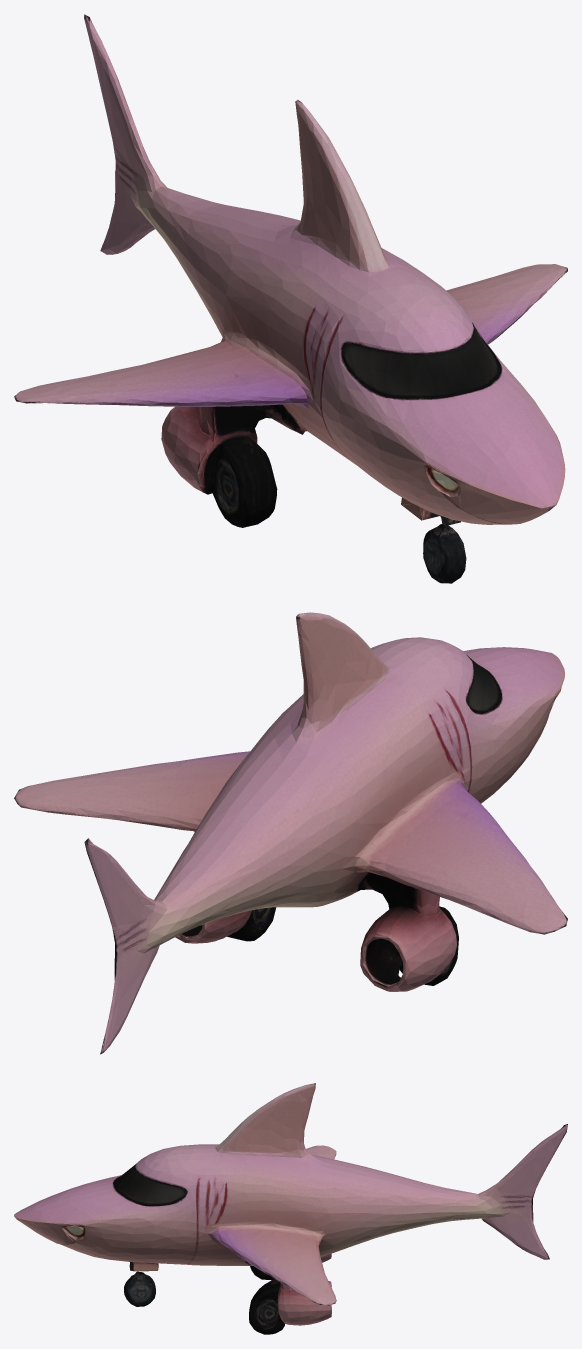
The picture shows the model from 3 angles, top to bottom: view 1: azimuth 30°, elevation 25°; view 2: azimuth 150°, elevation 25°; view 3: azimuth 270°, elevation 25°; orthographic projection. The views are drawn at different scales.
Parts seen in each view (by area): view 1: world; view 2: world; view 3: world.
Part boxes in pixels (x1,y1,x2,y2): world: (14, 14, 567, 583); world: (14, 612, 567, 1054); world: (14, 1083, 567, 1334).
Bounding box in the file's own units: 0.6841 × 0.4448 × 1.
Materials: 1 (1 with a texture image).
